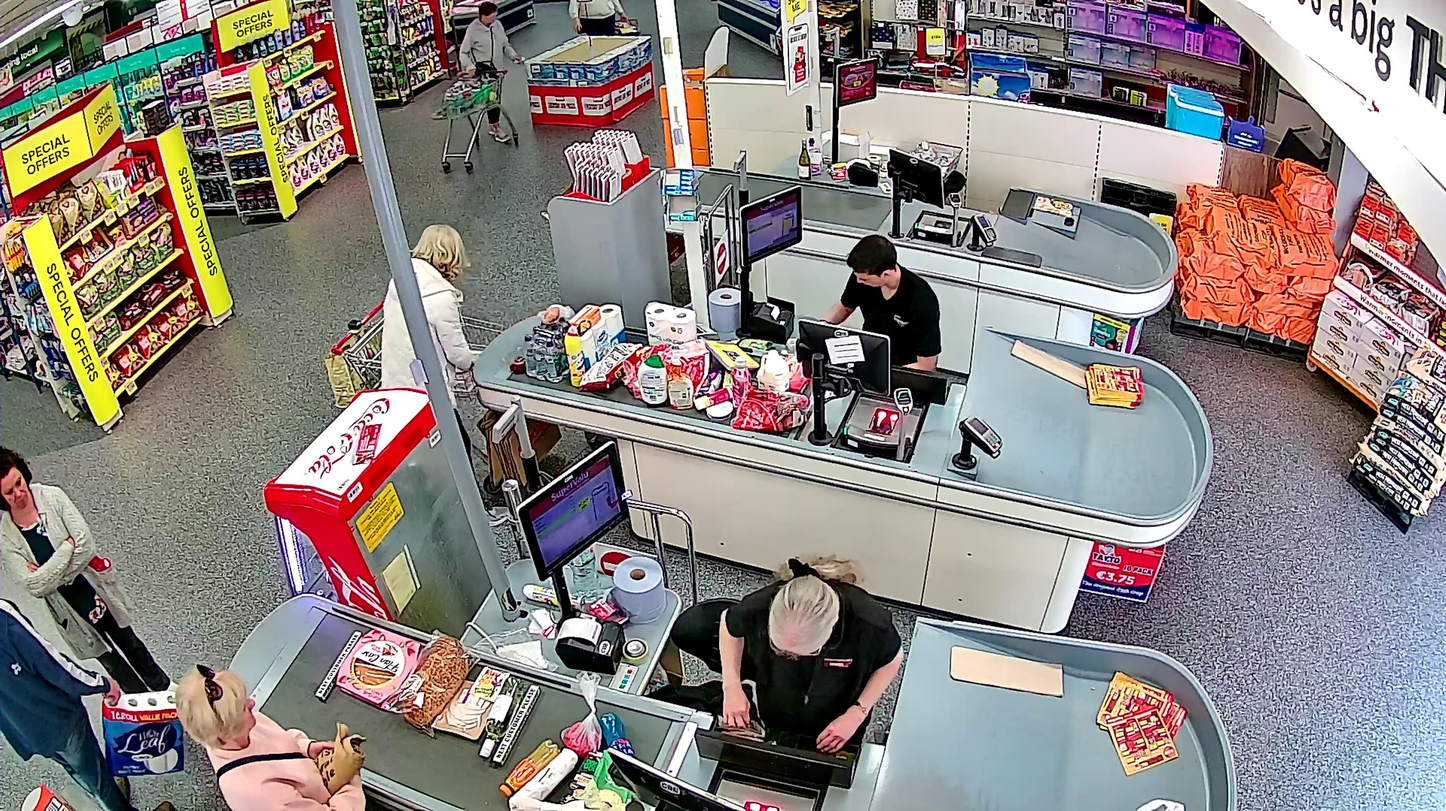carrying-item: (98, 683, 187, 778)
filled-trolly: (428, 68, 519, 174)
occupied-checkout-counter: (520, 441, 919, 811), (732, 183, 1003, 488)
person: (0, 592, 122, 811), (460, 2, 522, 142)
person-with-carrying-item: (0, 591, 187, 811)
person-with-filled-basket-trolly: (427, 1, 522, 174)
vacant-checkout-counter: (830, 56, 1013, 247)
